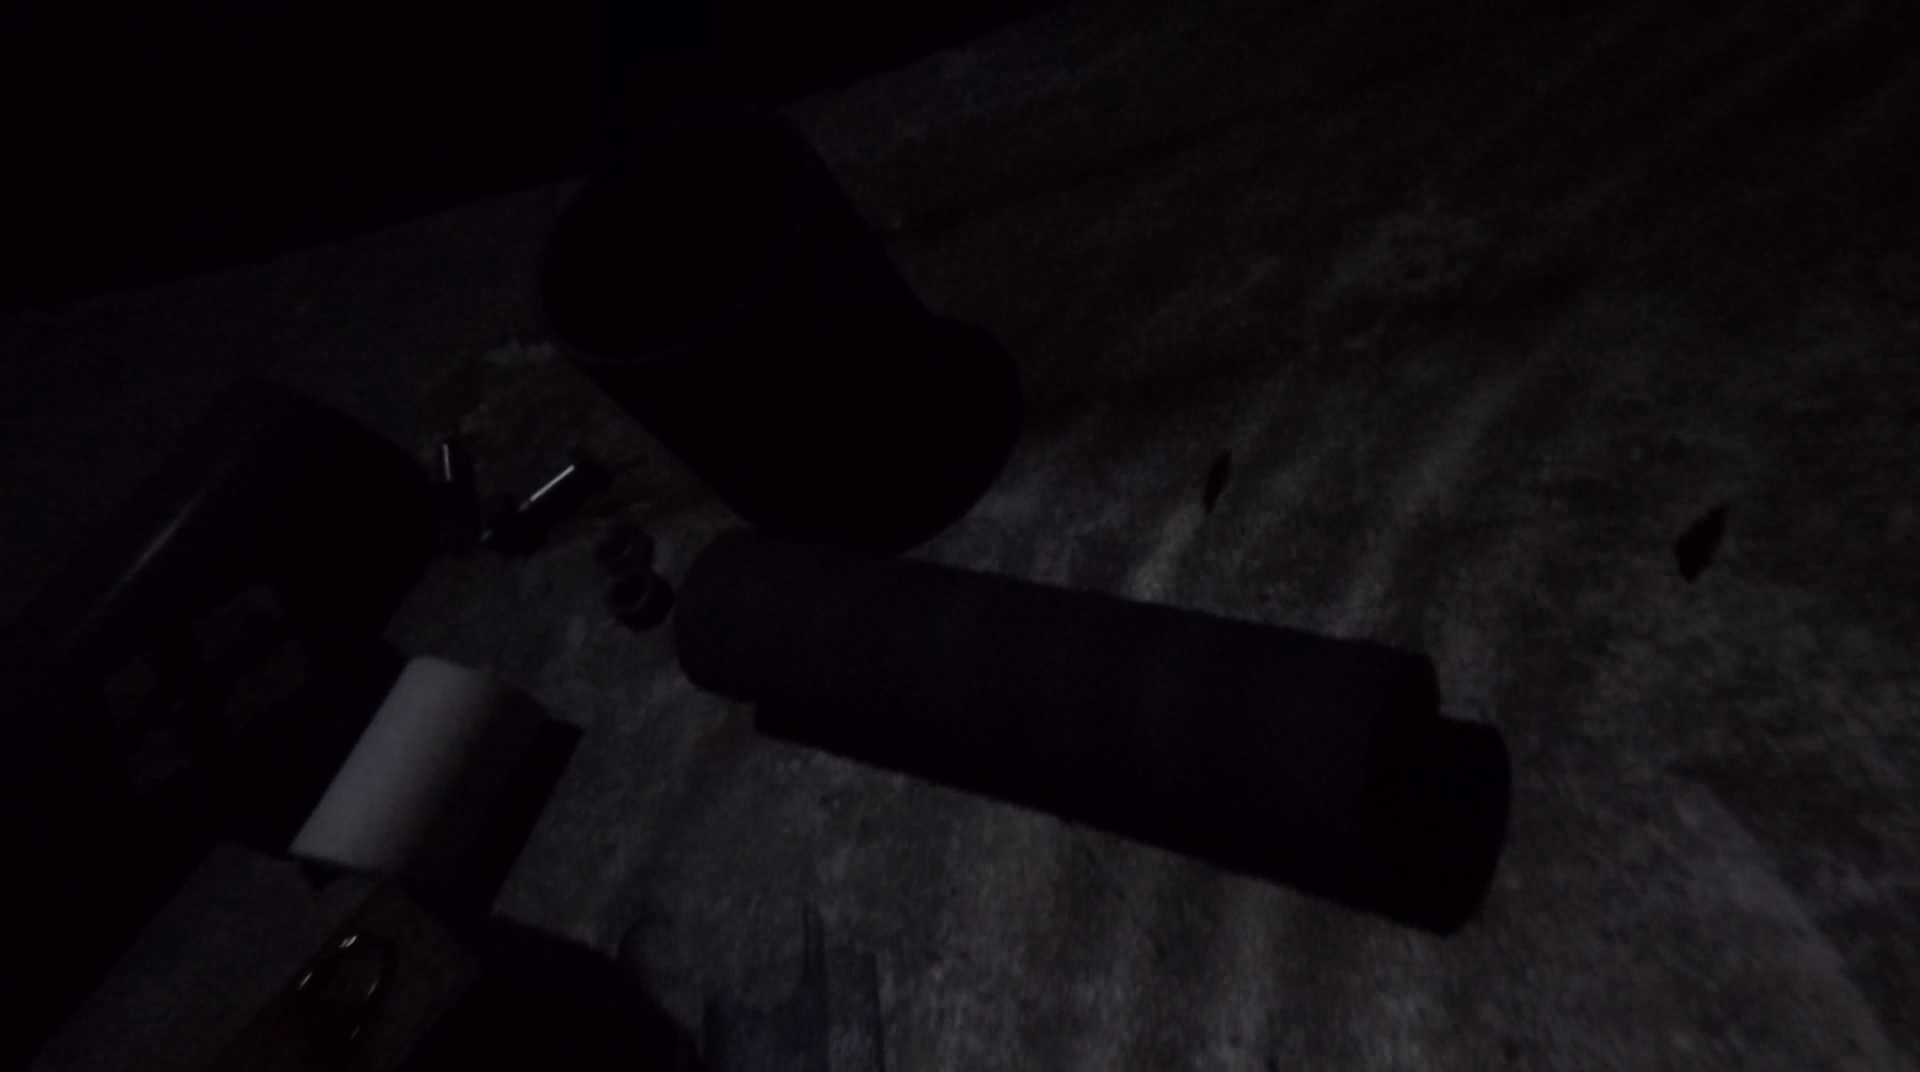bolt: (477, 444, 611, 551), (434, 430, 454, 485)
led_block: (222, 879, 692, 1072), (98, 583, 406, 862)
nut: (604, 564, 673, 632), (592, 522, 655, 570), (485, 488, 527, 556)
pipe: (1, 371, 440, 1072), (676, 523, 1443, 891), (527, 109, 1019, 549), (287, 657, 549, 886)
